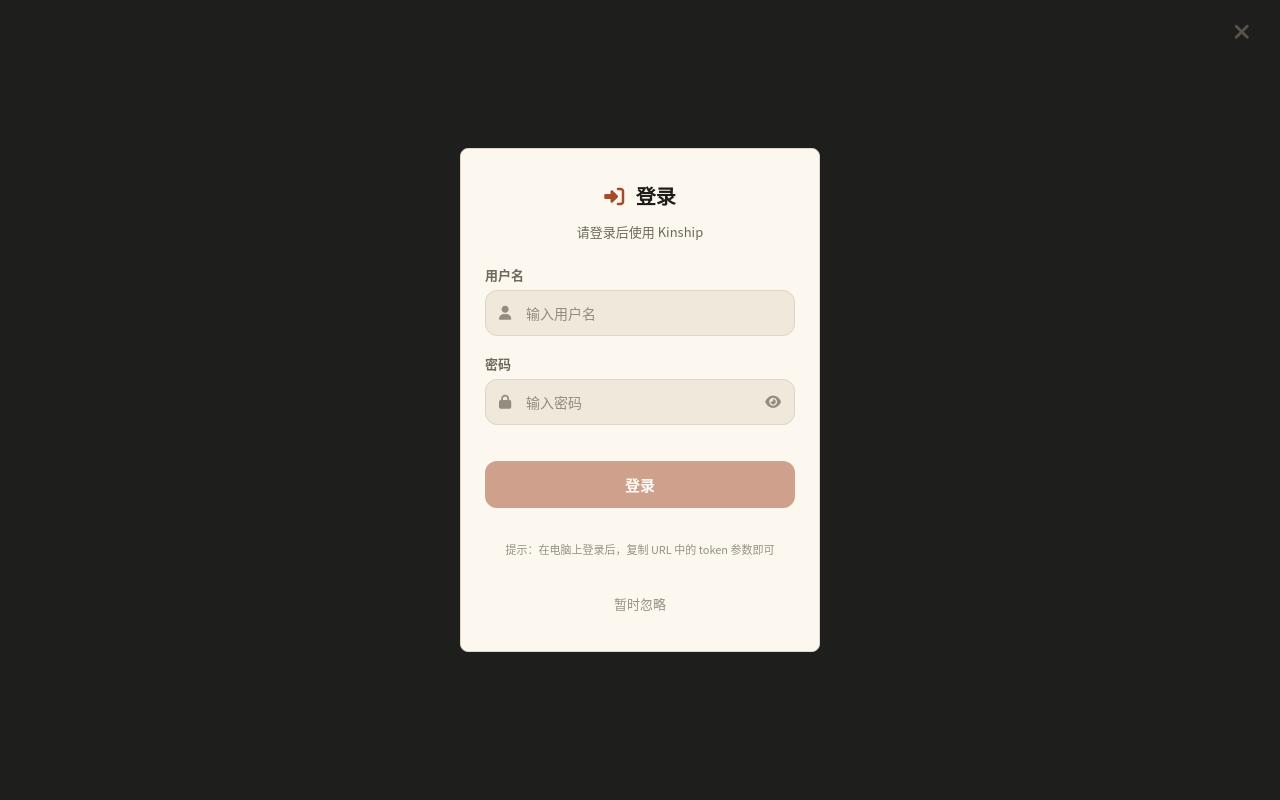
it: LoginOverlay › login failure › API 返回失败时显示错误信息
Type "admin" into the field with id "login-username".
click(640, 313); type("admin")  # box [485,290,795,336]
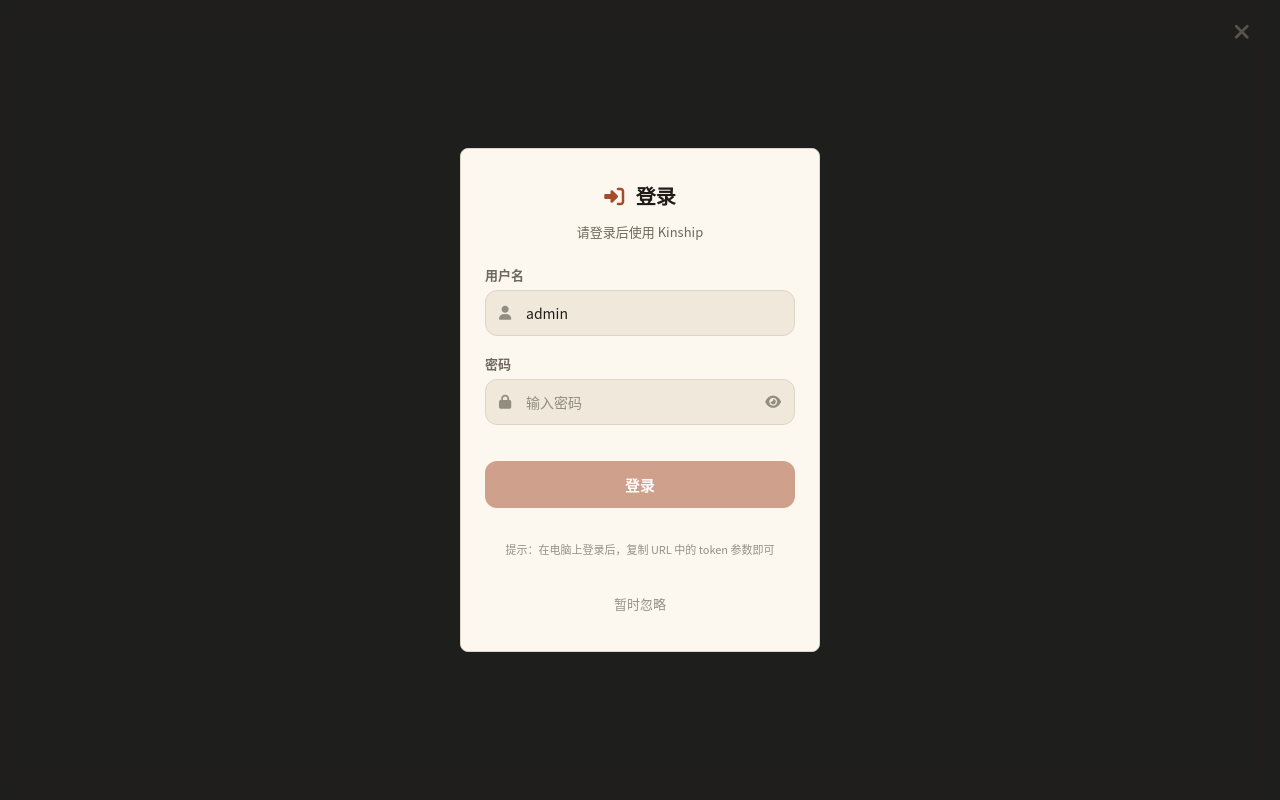
Type "wrong" into the password field with id "login-password".
click(640, 402); type("wrong")  # box [485,379,795,425]
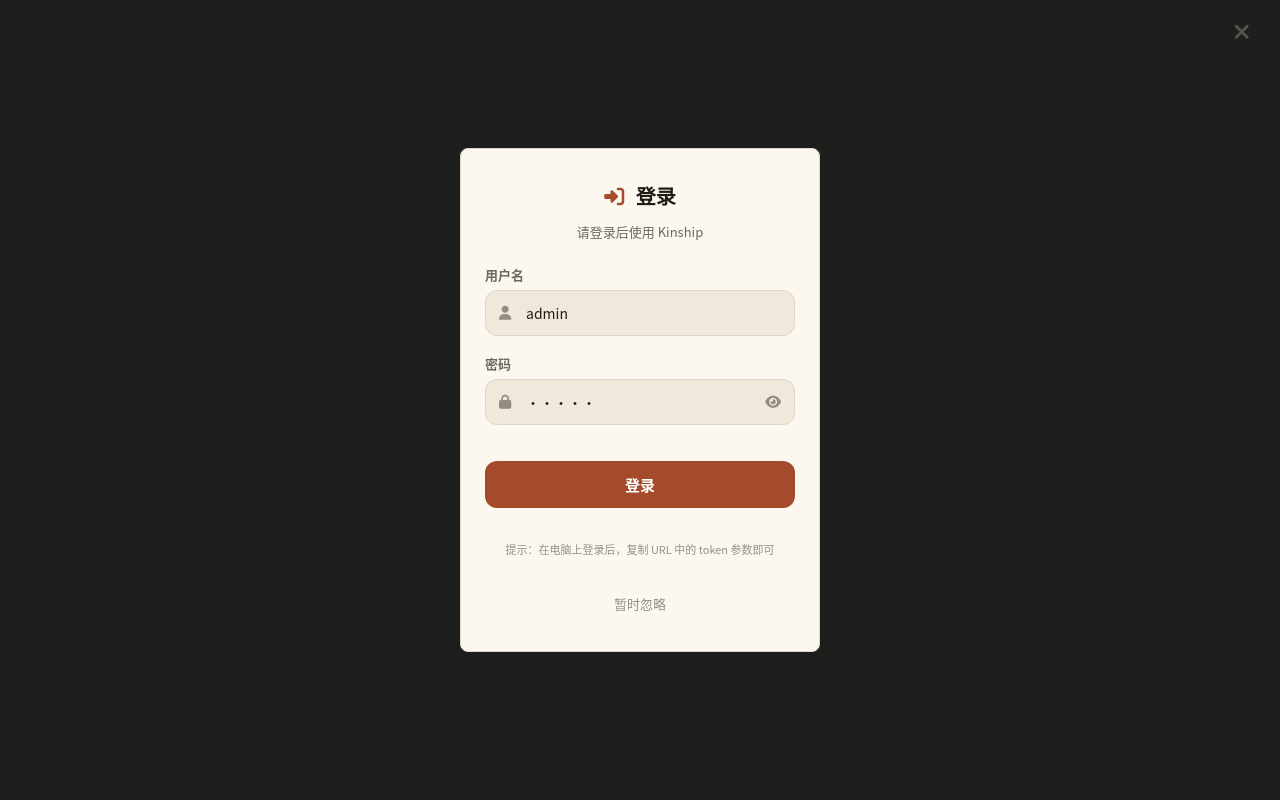
Submit the form, box [485,265,795,619]
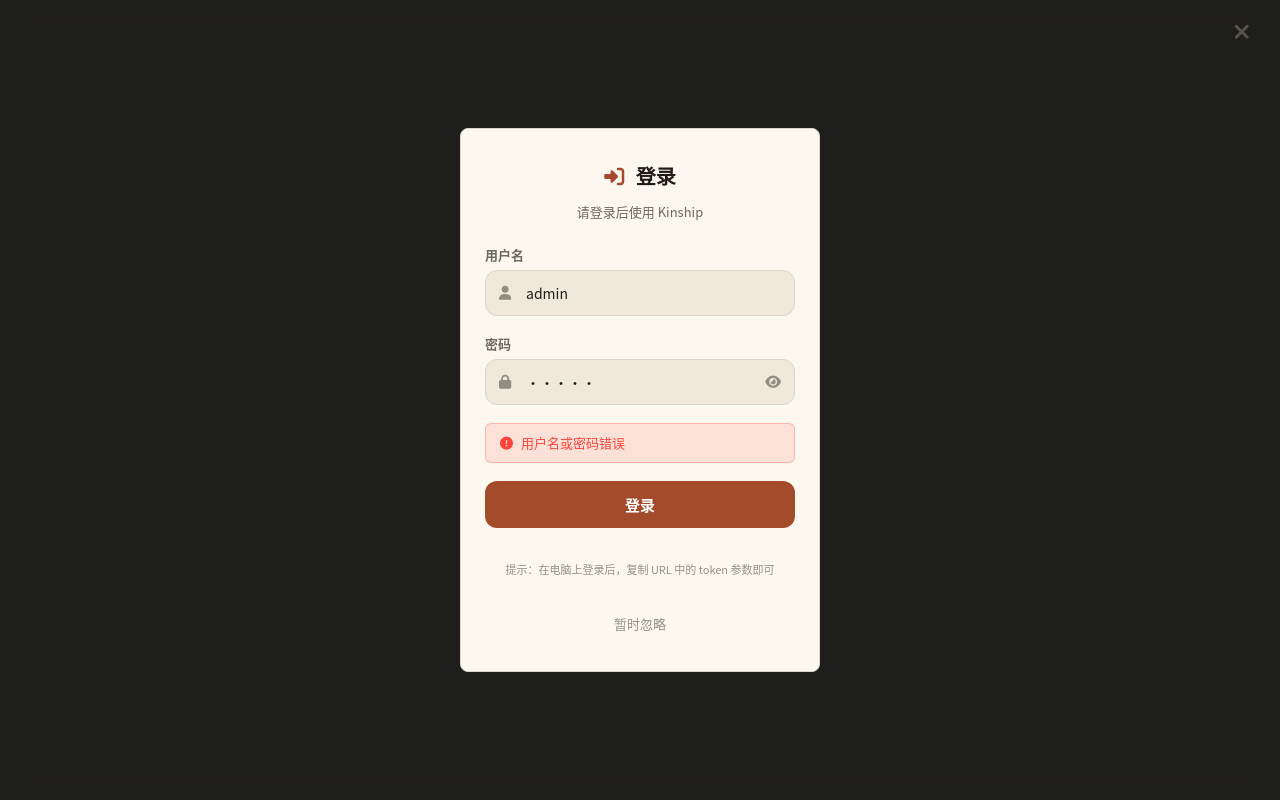
expect the element with class "login-error" is shown: met, box [485,423,795,463]
expect the element with class "login-error" reads "用户名或密码错误": met, box [521,433,625,452]
